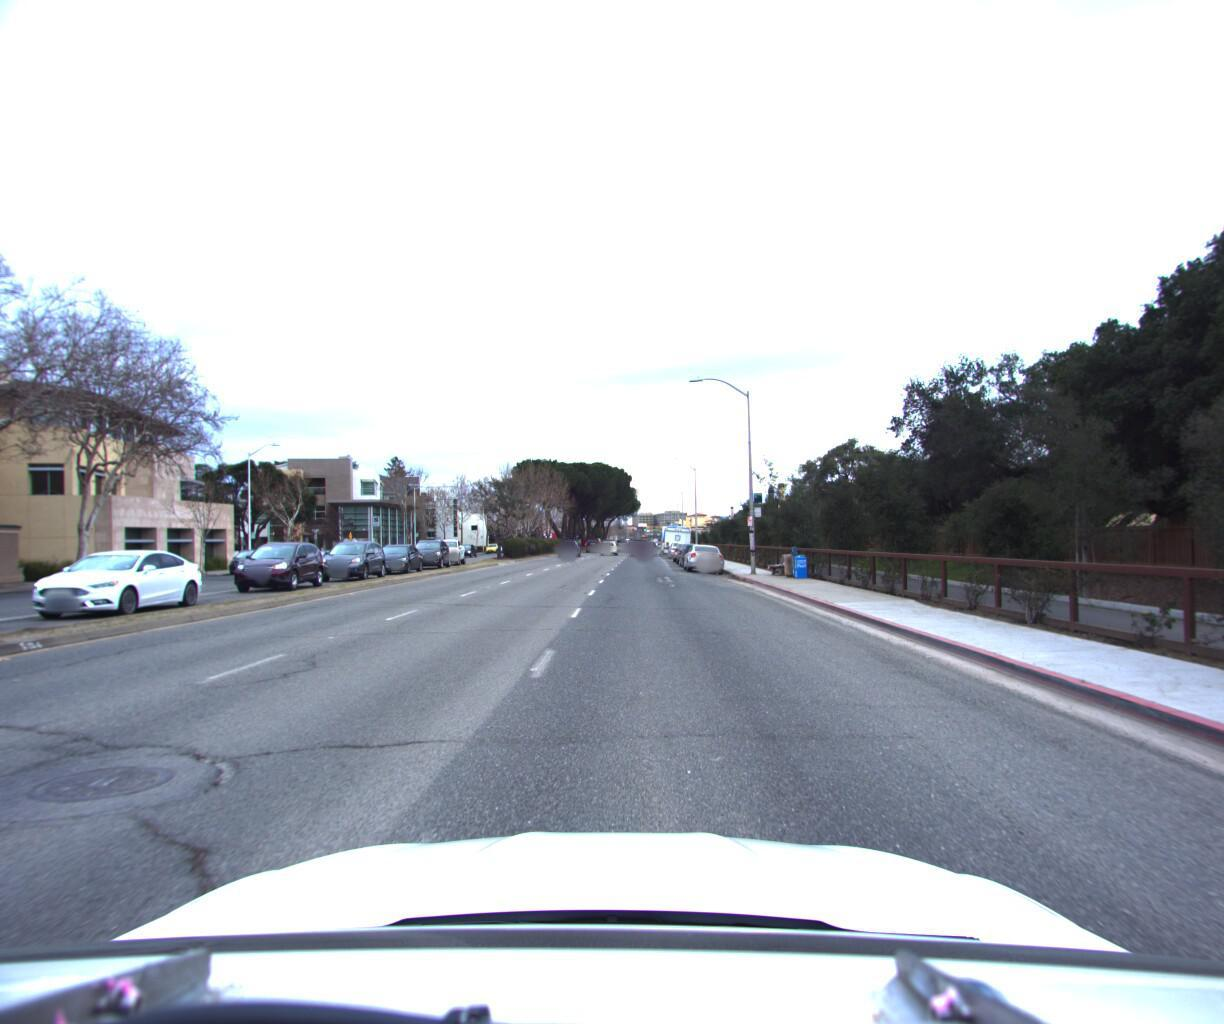car: (16, 543, 216, 620), (230, 535, 332, 590), (313, 534, 392, 578), (367, 538, 429, 571), (406, 532, 454, 565), (226, 542, 277, 571), (681, 537, 723, 568), (426, 532, 468, 561), (554, 534, 579, 552), (630, 533, 650, 551), (601, 534, 621, 550)
other_vehicle: (660, 518, 695, 552)
